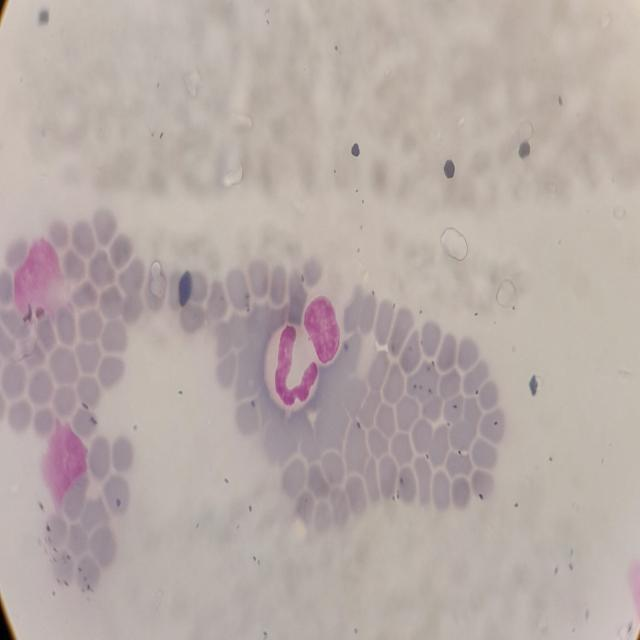Neutrofilo: (265, 321, 327, 411)
